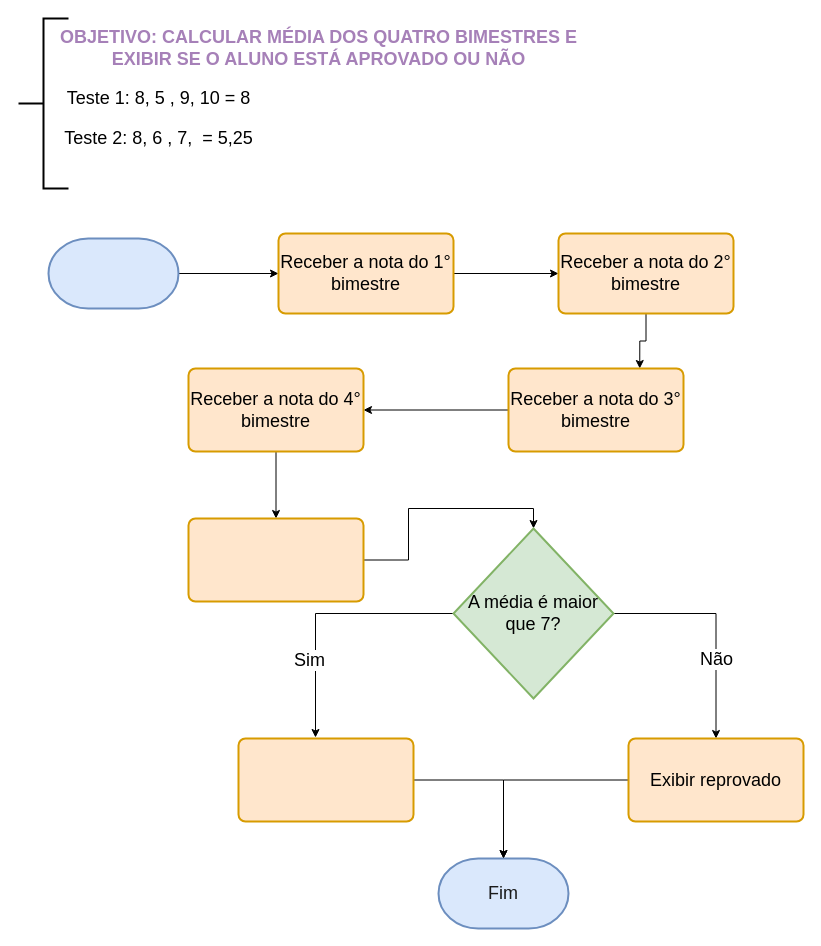
Image size: 821x946. Some labels were removed from this diagram. The shapes that lost their labels are listed below. From the top down, each one's centre as x and y in pixels, then its label:
At pixel 113 273: "Início".
At pixel 275 559: "Somar as 4 notas e dividir por 4".
At pixel 325 779: "Exibir aprovado".
